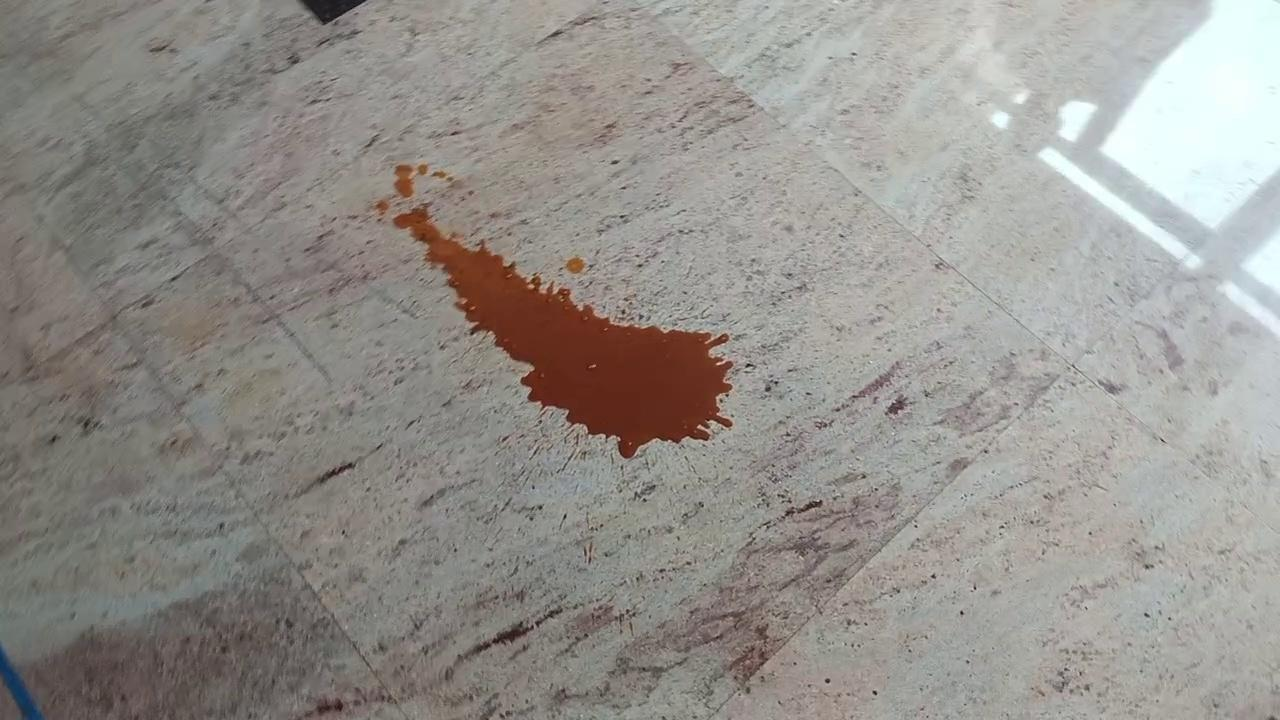dirty_floor: (378, 165, 735, 458)
